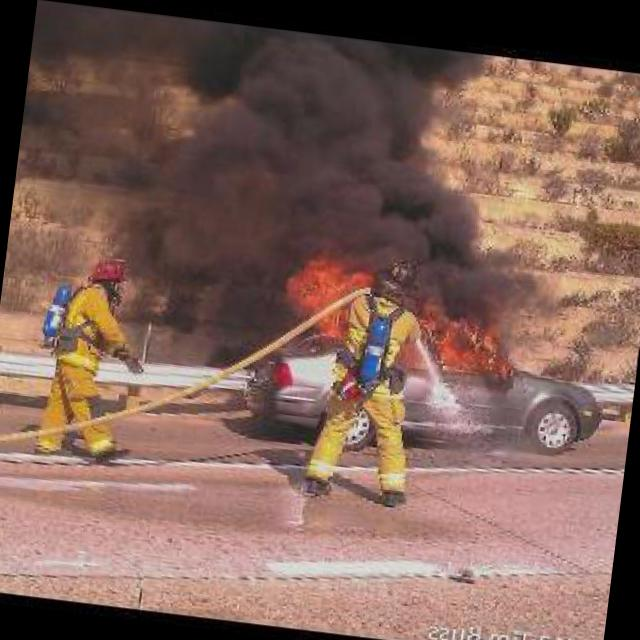fire: (273, 242, 535, 390)
smoke: (158, 17, 528, 350)
